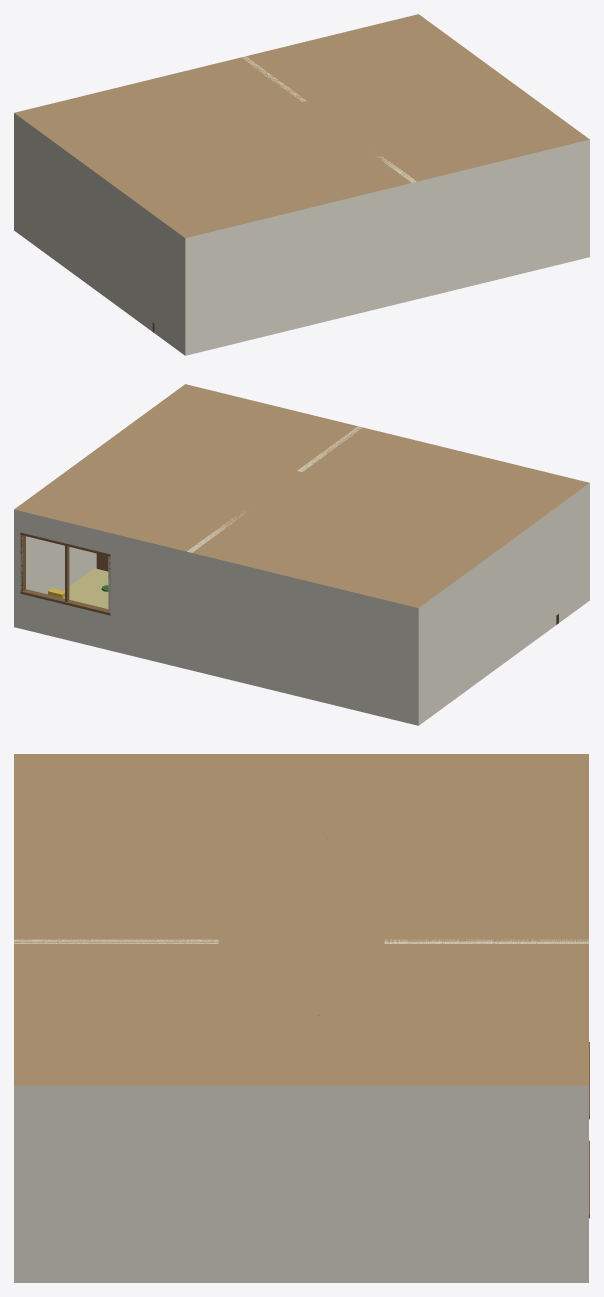
File: home-in.glb
3 views of the same model, one above another, from view 1: azimuth 30°, elevation 25°; view 2: azimuth 150°, elevation 25°; view 3: azimuth 270°, elevation 25° (orthographic). The views are drawn at different scales.
Parts seen in each view (by area): view 1: home-in; view 2: home-in; view 3: home-in.
Boxes of the visible parts, bbox=[...] form: home-in: bbox=[14, 14, 589, 355]; home-in: bbox=[14, 384, 589, 725]; home-in: bbox=[14, 754, 589, 1282].
Size of the model in its own units: 9 by 2.5 by 6.61.
